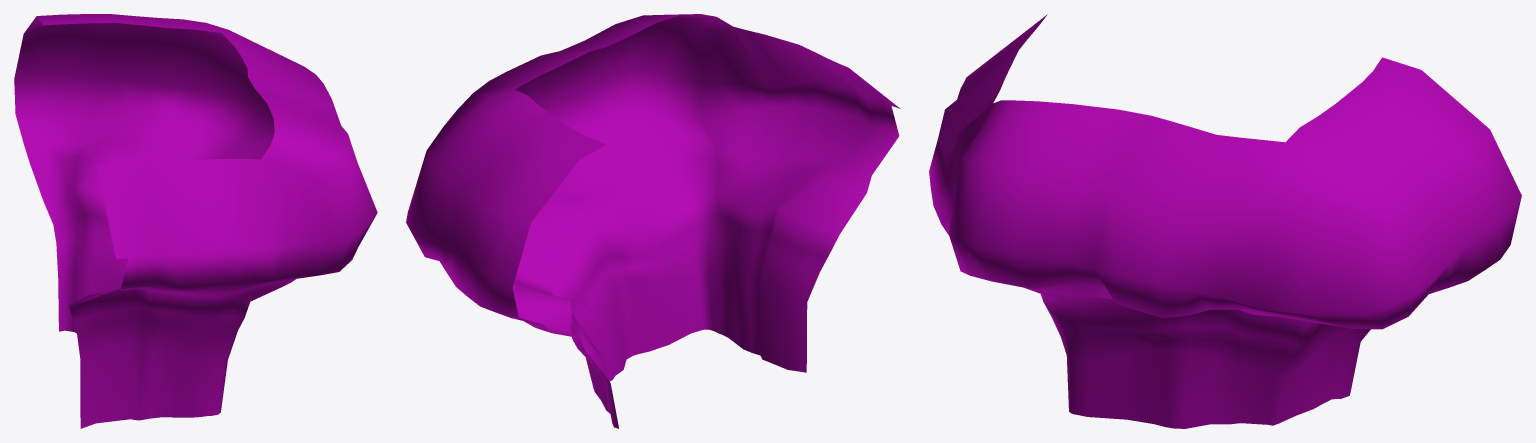
Rendered from Cliff_Cave.fbx.
3 views of the same model, side by side, from view 1: azimuth 30°, elevation 25°; view 2: azimuth 150°, elevation 25°; view 3: azimuth 270°, elevation 25° (orthographic). The views are drawn at different scales.
Parts seen in each view (by area): view 1: Cliff; view 2: Cliff; view 3: Cliff.
Boxes of the visible parts, bbox=[...] form: Cliff: bbox=[14, 14, 377, 428]; Cliff: bbox=[406, 14, 900, 428]; Cliff: bbox=[929, 14, 1521, 428].
Bounding box in the file's own units: 41.97 × 36.74 × 58.84.
